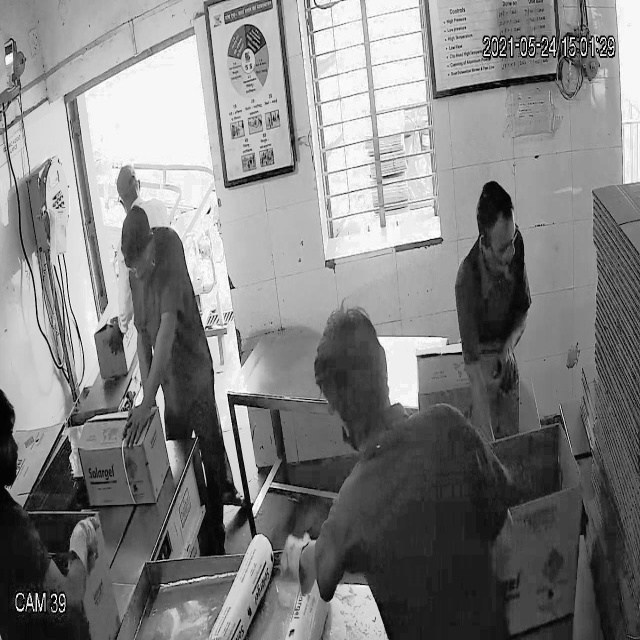Gafas: (478, 220, 521, 258)
